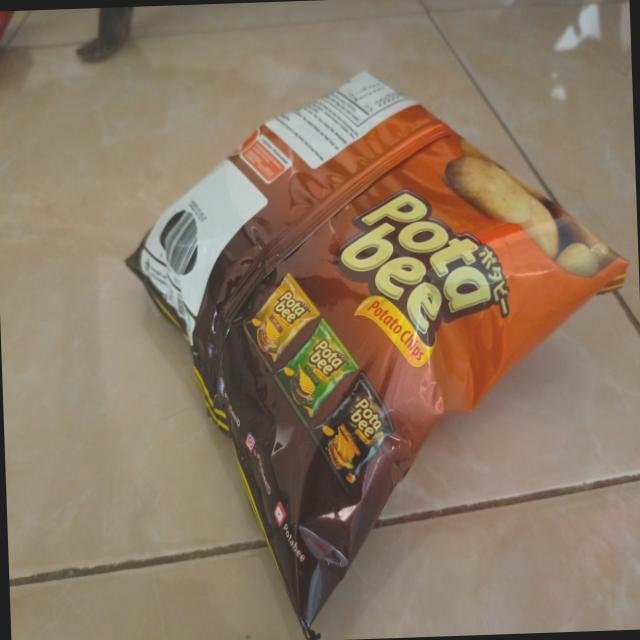potabee-ayam-bakar: (118, 59, 640, 640)
